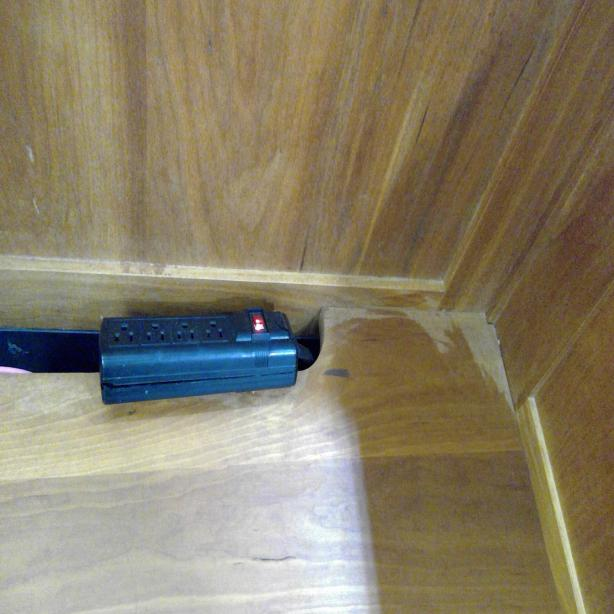typeb: (142, 320, 170, 350), (200, 317, 228, 346), (110, 320, 138, 348), (171, 318, 198, 346)
